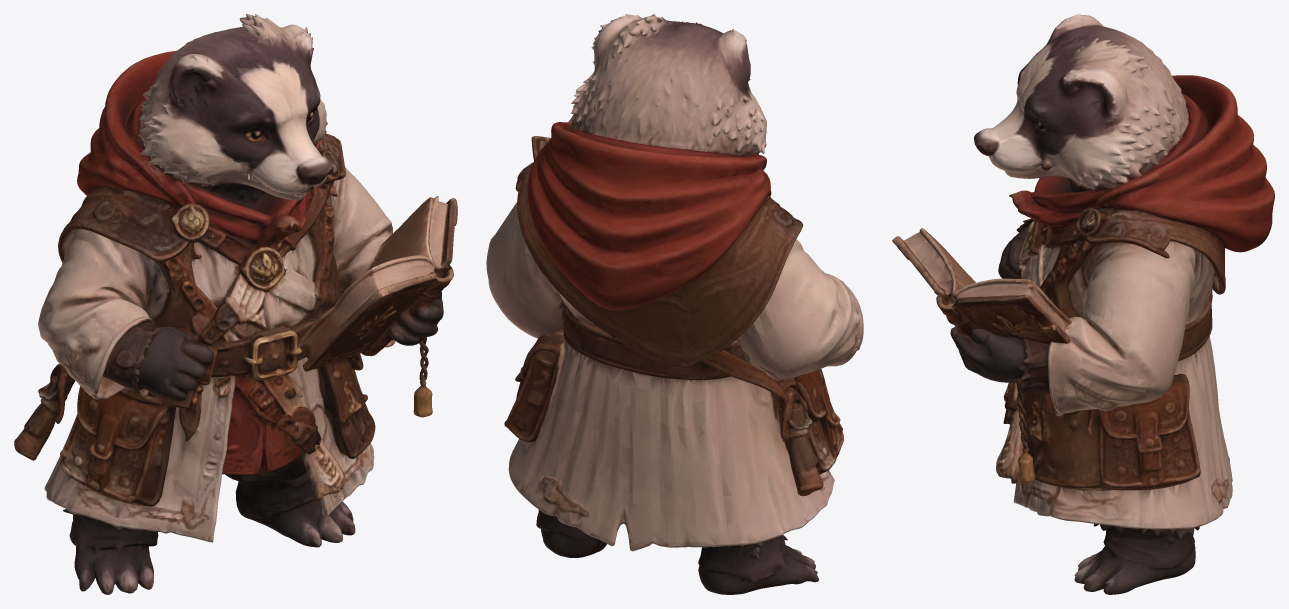
The model's file is claude.glb.
3 renders of one model, left to right at view 1: azimuth 30°, elevation 25°; view 2: azimuth 150°, elevation 25°; view 3: azimuth 270°, elevation 25°, orthographic. The views are drawn at different scales.
Parts seen in each view (by area): view 1: Claude_BrowserExport; view 2: Claude_BrowserExport; view 3: Claude_BrowserExport.
Boxes of the visible parts, box(x1,y1,x2,y2) form: Claude_BrowserExport: box(14, 14, 457, 594); Claude_BrowserExport: box(486, 14, 863, 594); Claude_BrowserExport: box(892, 14, 1274, 594).
Bounding box in the file's own units: 0.707 × 0.9794 × 0.6638.
1 material, 1 textured.
